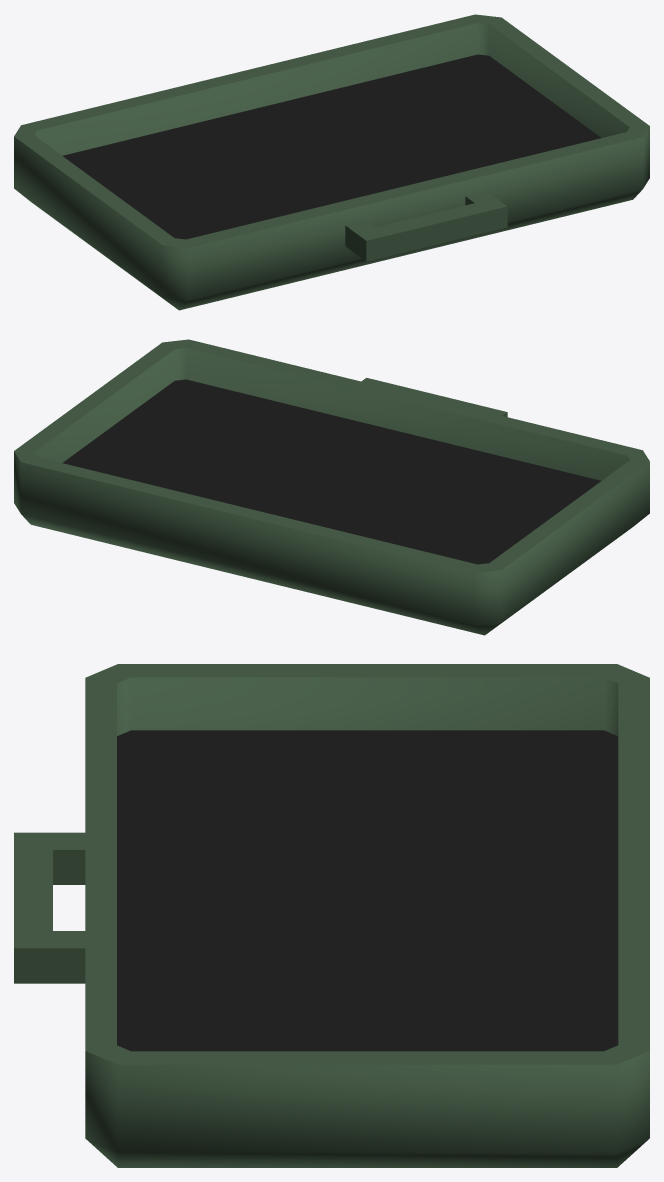
The model's file is mesh_SSOfficeBriefcaseBottom.fbx.
3 renders of one model, top to bottom at view 1: azimuth 30°, elevation 25°; view 2: azimuth 150°, elevation 25°; view 3: azimuth 270°, elevation 25°, orthographic. The views are drawn at different scales.
Parts seen in each view (by area): view 1: LowerEnd; view 2: LowerEnd; view 3: LowerEnd.
Boxes of the visible parts, x1,y1,x2,y2 form: LowerEnd: (14,14,649,310); LowerEnd: (14,339,649,635); LowerEnd: (14,664,649,1167).
Bounding box in the file's own units: 111 × 15.09 × 74.27.
